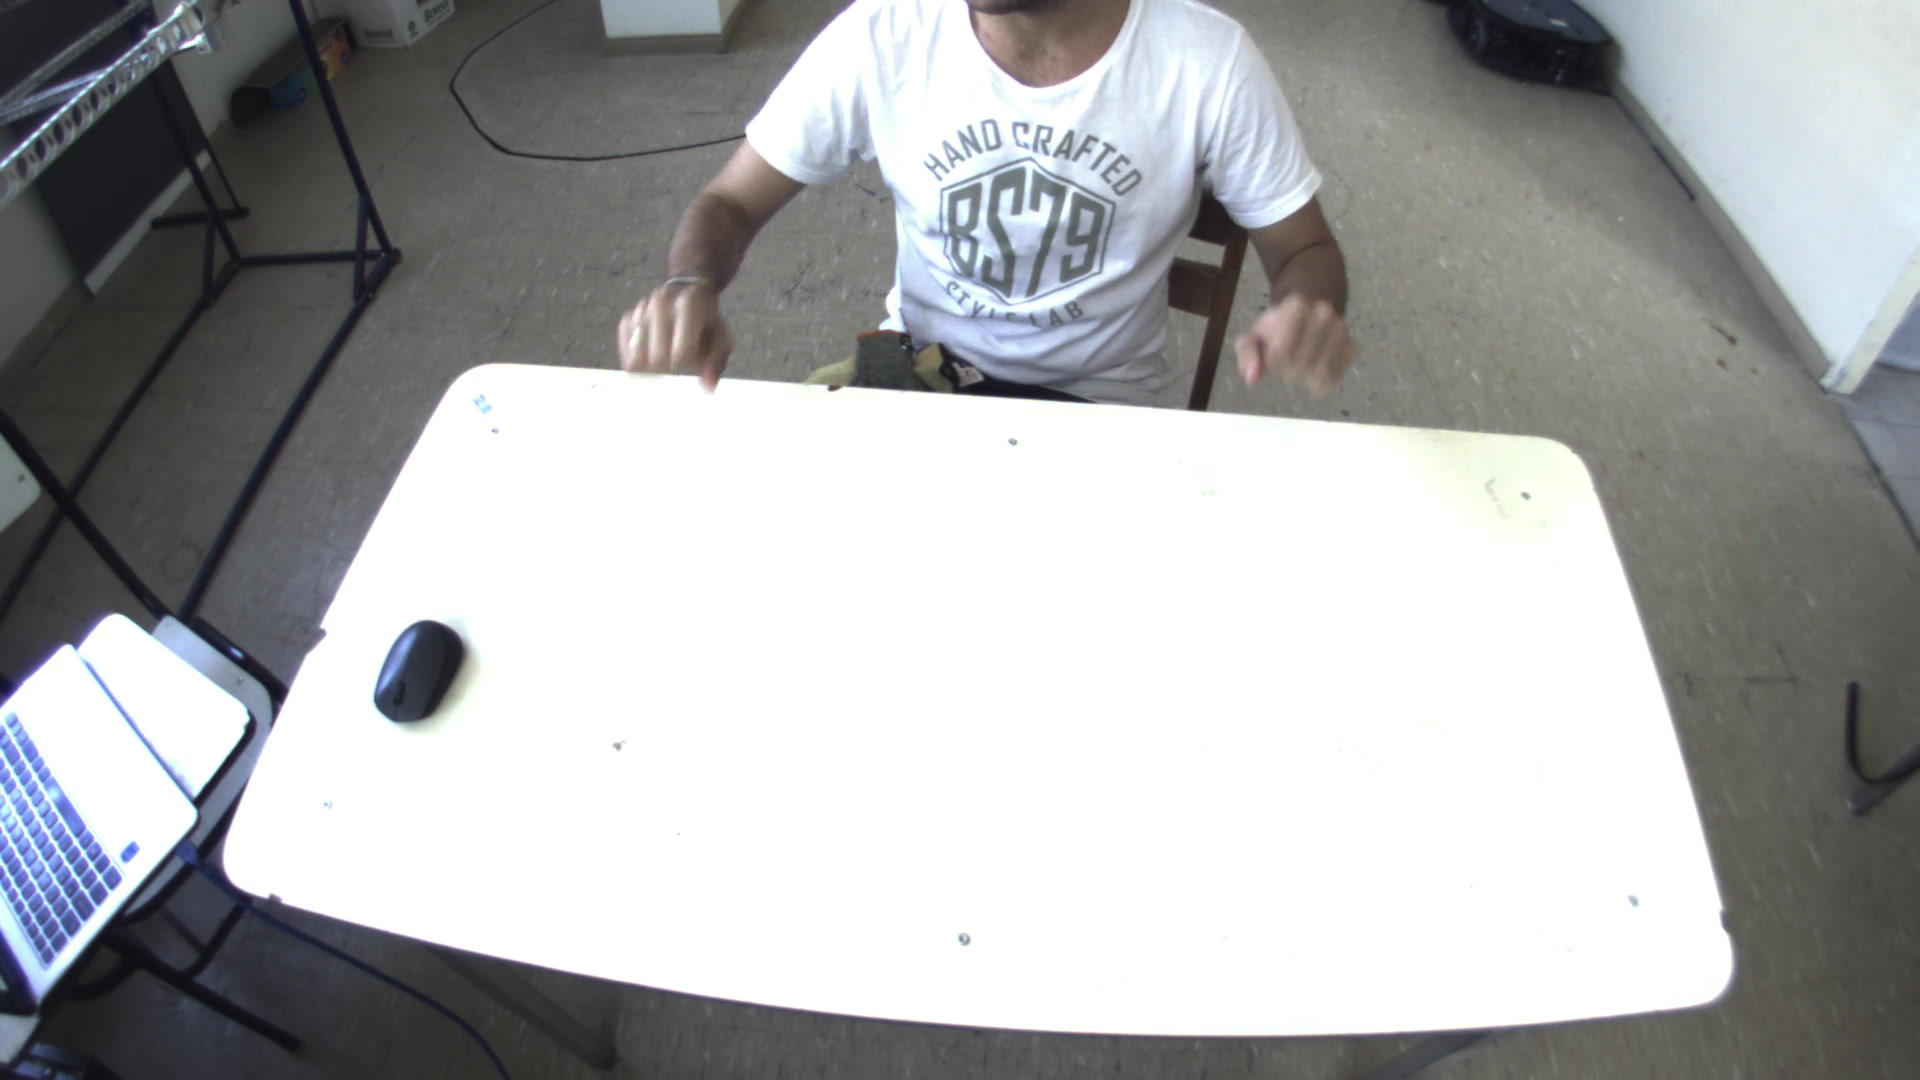hand: (601, 258, 742, 381), (1224, 293, 1369, 406)
